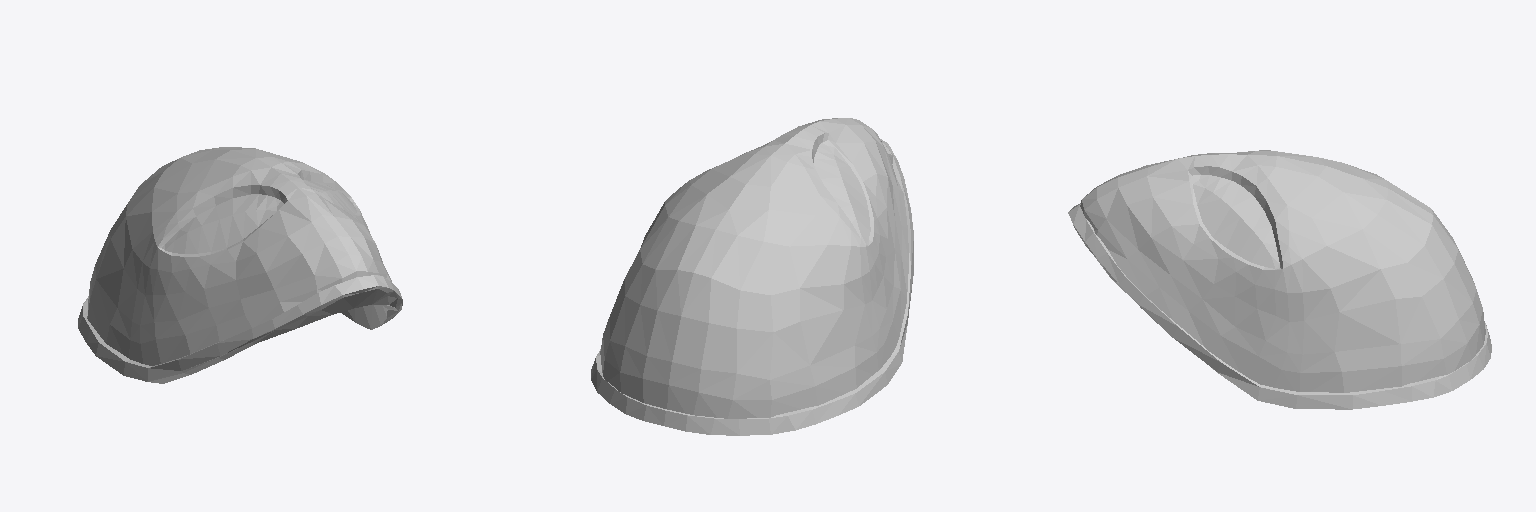
The model's file is Alienware.obj.
The picture shows the model from 3 angles: view 1: azimuth 30°, elevation 25°; view 2: azimuth 150°, elevation 25°; view 3: azimuth 270°, elevation 25°; orthographic projection.
Parts seen in each view (by area): view 1: model-0; view 2: model-0; view 3: model-0.
Boxes of the visible parts, x1=… form: model-0: x1=78, y1=147, x2=402, y2=383; model-0: x1=591, y1=118, x2=913, y2=435; model-0: x1=1068, y1=150, x2=1491, y2=409.
Bounding box in the file's own units: 4.92 × 3.78 × 7.17.